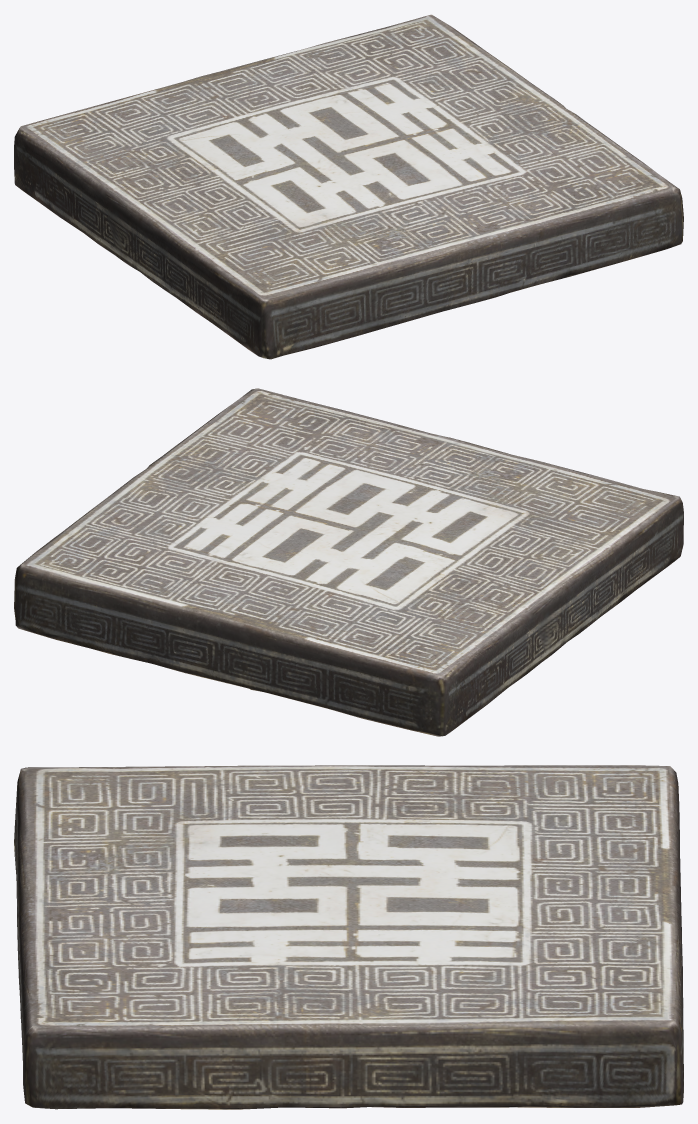
Rendered from SM_Iron_Lid_Silver.fbx.
The picture shows the model from 3 angles, top to bottom: view 1: azimuth 30°, elevation 25°; view 2: azimuth 150°, elevation 25°; view 3: azimuth 270°, elevation 25°; orthographic projection. The views are drawn at different scales.
Parts seen in each view (by area): view 1: KCDF_2022_prop_Lid_of_Iron_Case_with_Silver_Inlay_Mesh; view 2: KCDF_2022_prop_Lid_of_Iron_Case_with_Silver_Inlay_Mesh; view 3: KCDF_2022_prop_Lid_of_Iron_Case_with_Silver_Inlay_Mesh.
Part boxes in pixels (<box>): KCDF_2022_prop_Lid_of_Iron_Case_with_Silver_Inlay_Mesh: <box>14,14,683,359</box>; KCDF_2022_prop_Lid_of_Iron_Case_with_Silver_Inlay_Mesh: <box>14,388,683,736</box>; KCDF_2022_prop_Lid_of_Iron_Case_with_Silver_Inlay_Mesh: <box>14,765,683,1109</box>.
Size of the model in its own units: 13.44 by 2.06 by 13.38.
1 material, 1 textured.
